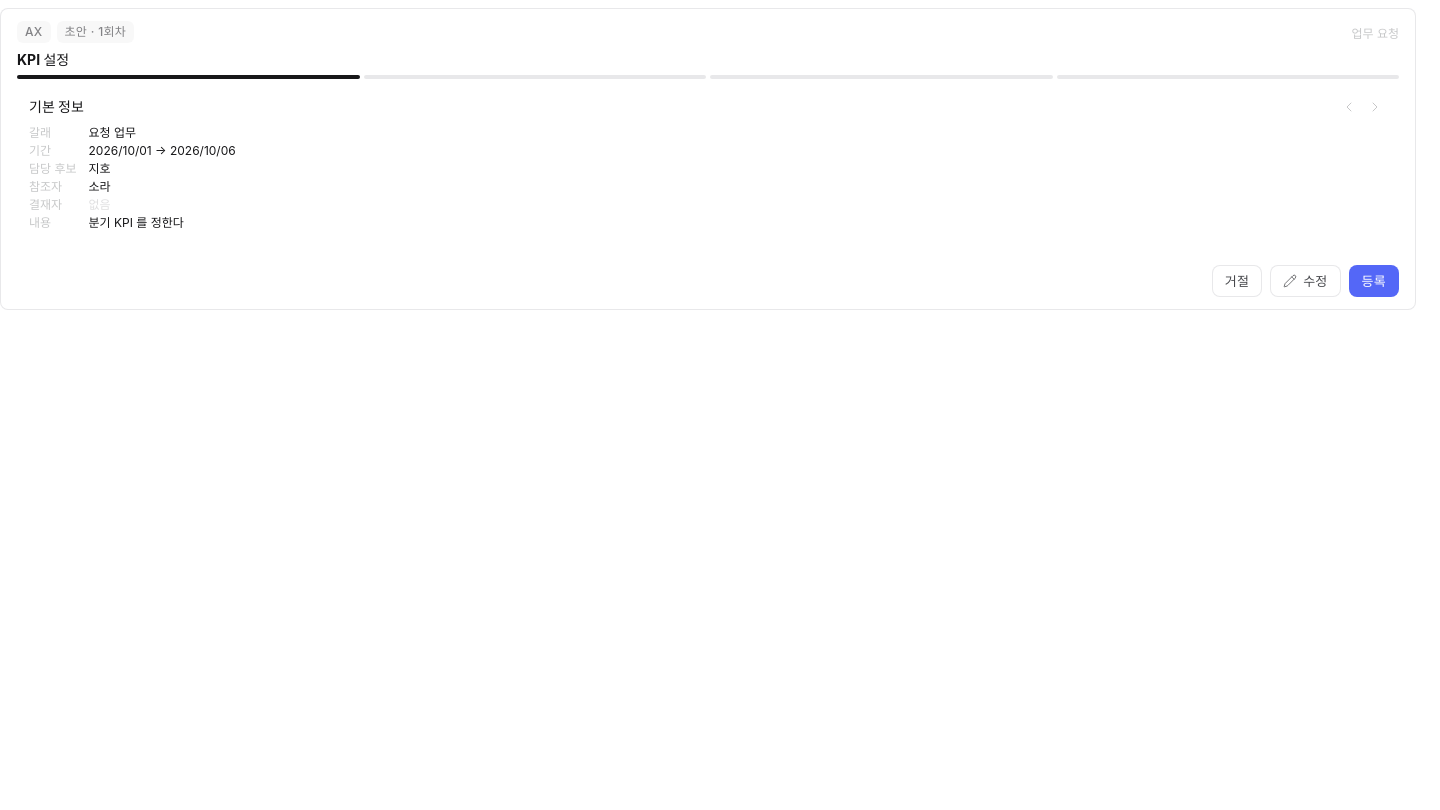
AX 초안 요약 카드 — [수정] = 「새 업무 추가」 창 › 업무 요청 초안은 「새 업무 요청」 창으로 열리고 담당 후보가 초안의 사람이다
expect the text "업무 요청" is shown: met, box [1352,24,1399,40]
Click the button "수정" at {"x": 1305, "y": 281}, box [1270,265,1341,297]
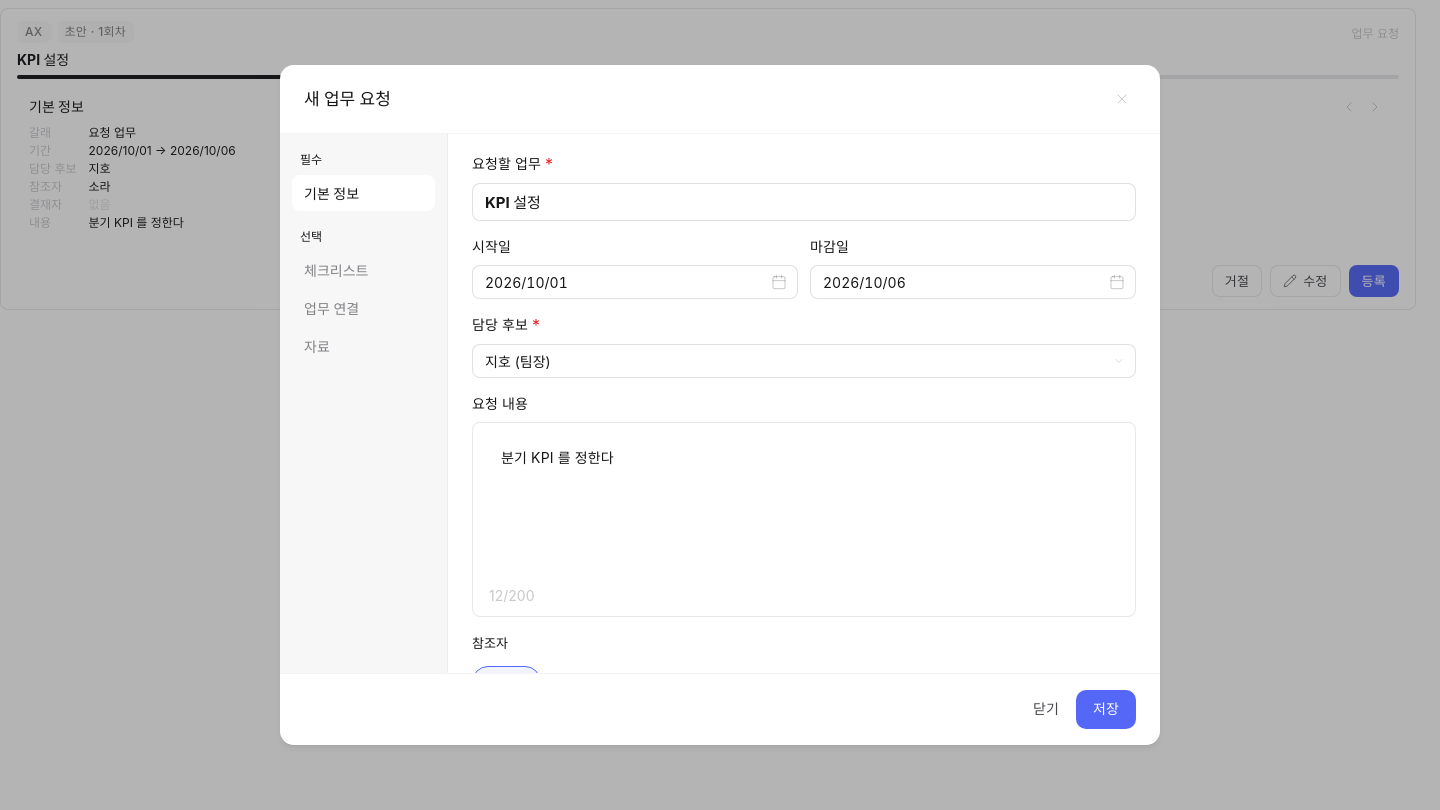
expect the field labelled "요청할 업무" holds "KPI 설정": met, box [472,182,1136,220]
